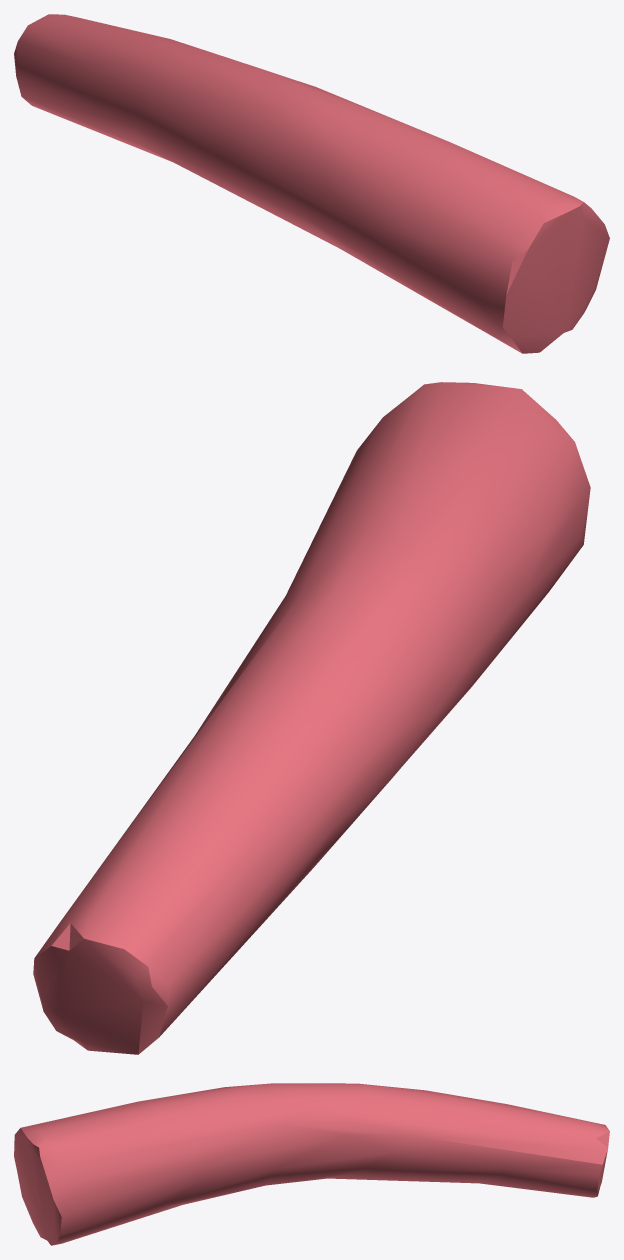
The model's file is fma8619_fj6042.glb.
3 renders of one model, top to bottom at view 1: azimuth 30°, elevation 25°; view 2: azimuth 150°, elevation 25°; view 3: azimuth 270°, elevation 25°, orthographic. The views are drawn at different scales.
Visible parts, largest first — view 1: FMA8619_FJ6042; view 2: FMA8619_FJ6042; view 3: FMA8619_FJ6042.
Part boxes in pixels (x1,y1,x2,y2): FMA8619_FJ6042: (14,14,609,353); FMA8619_FJ6042: (33,382,590,1054); FMA8619_FJ6042: (14,1083,609,1245).
Size of the model in its own units: 0.00368 by 0.00245 by 0.0108.
